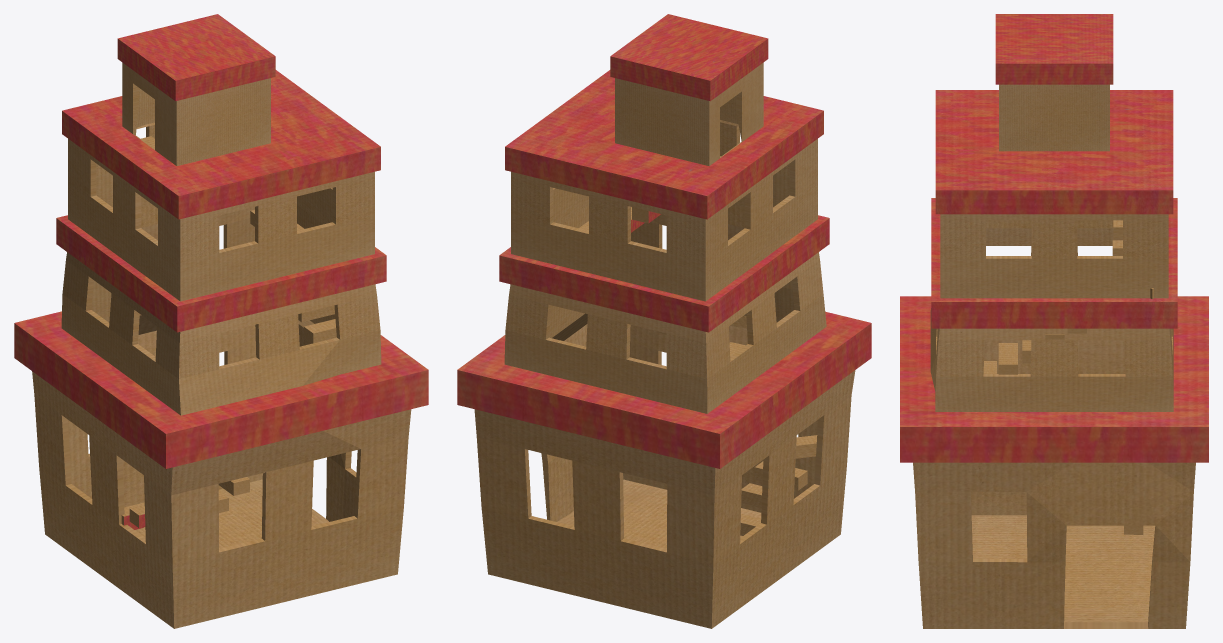
The model's file is TowerT.dae.
The picture shows the model from 3 angles, left to right: view 1: azimuth 30°, elevation 25°; view 2: azimuth 150°, elevation 25°; view 3: azimuth 270°, elevation 25°; orthographic projection.
Visible parts, largest first — view 1: Cube.001; view 2: Cube.001; view 3: Cube.001.
Boxes of the visible parts, bbox=[...] form: Cube.001: bbox=[14, 14, 428, 628]; Cube.001: bbox=[457, 14, 871, 628]; Cube.001: bbox=[900, 14, 1208, 628].
Bounding box in the file's own units: 3.18 × 3.18 × 5.93.
1 material, 1 textured.
